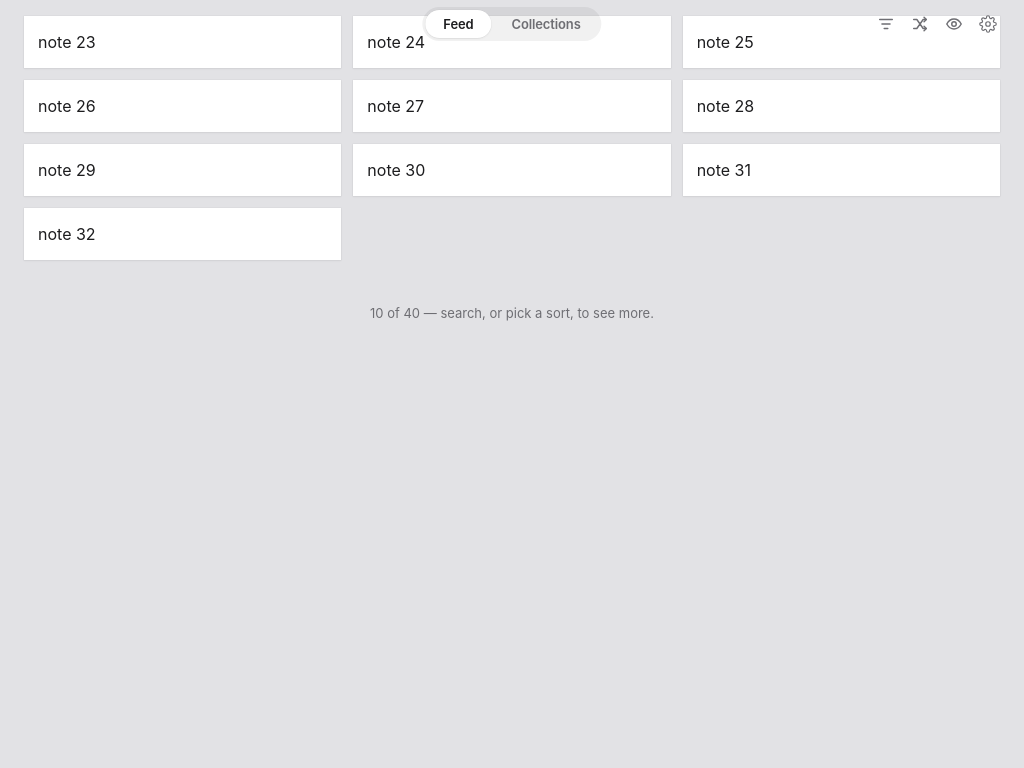
Test: HistoryPage shuffled board › pages in order instead of sampling once a dated sort is chosen
Click the button named "Sort memories" at (886,24), box left=874, top=12, right=898, bottom=36
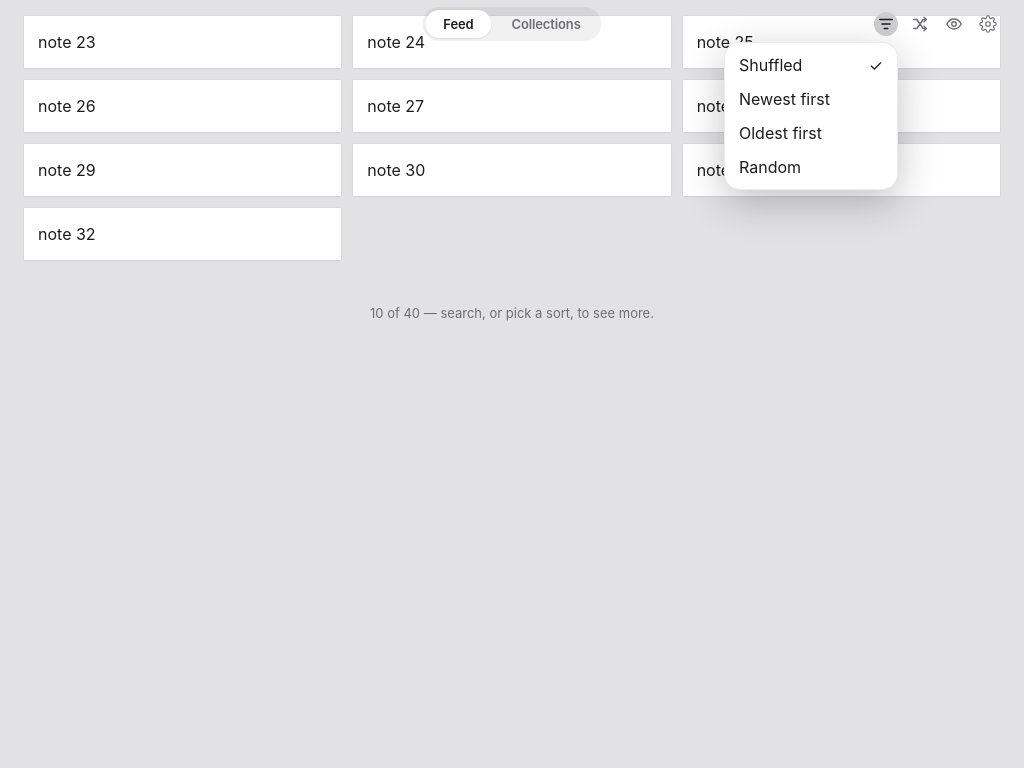
Click the menu item "Newest first" at (811,99), box left=730, top=82, right=892, bottom=116
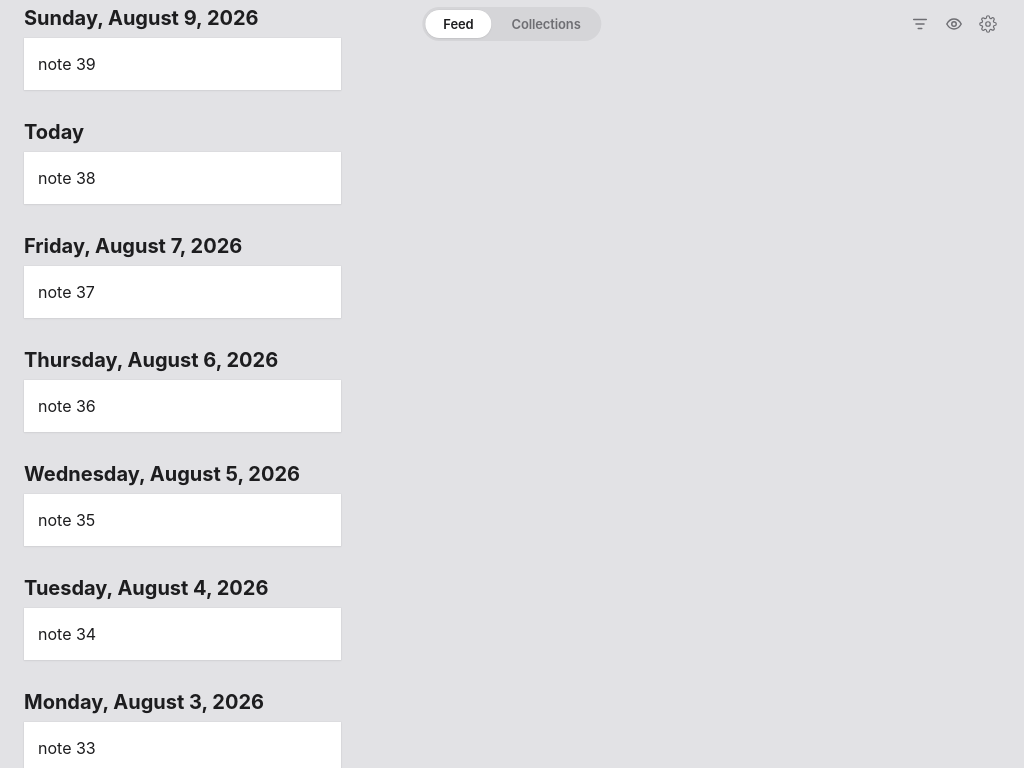
Expected: the element with class "shuffle-board" is gone
Expected: the element with class "day-header" showing "Sunday, August 9, 2026" is shown, left=24, top=6, right=259, bottom=30
